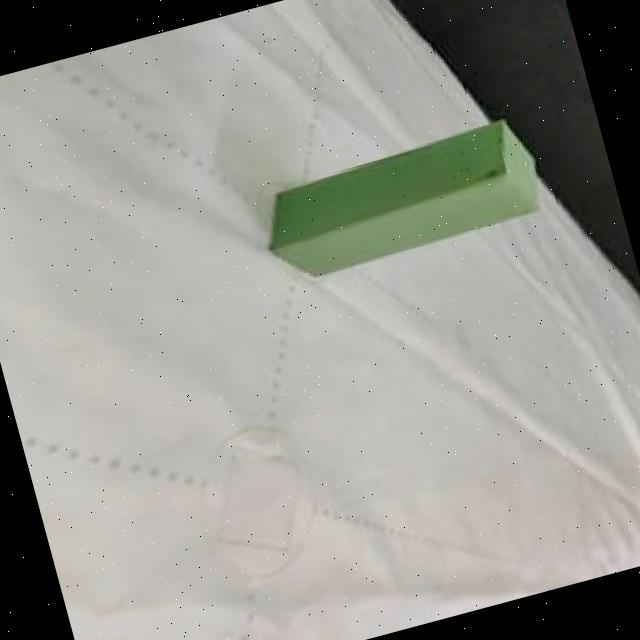greenbox: (252, 115, 550, 286)
